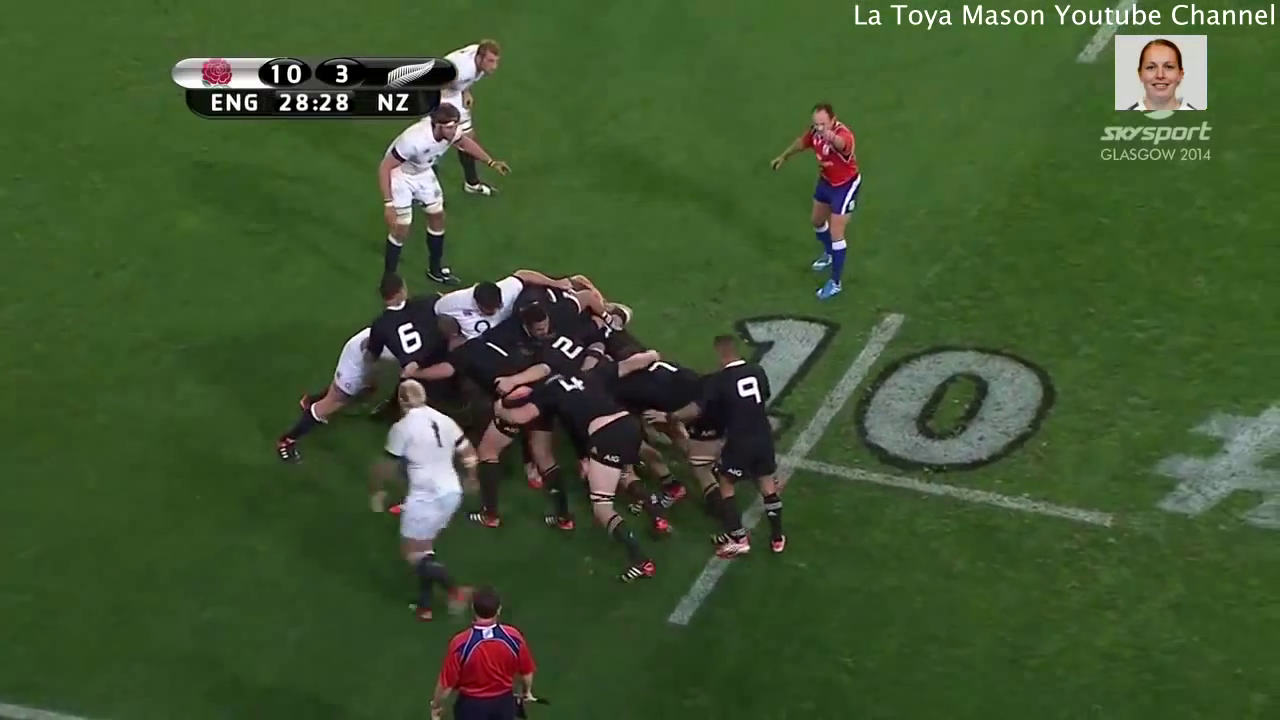10_metre: (661, 308, 1114, 632)
player: (689, 329, 790, 555), (760, 93, 857, 305), (389, 373, 473, 613), (422, 583, 548, 720), (374, 115, 468, 288), (374, 278, 448, 365)
scrum: (262, 280, 770, 580)
